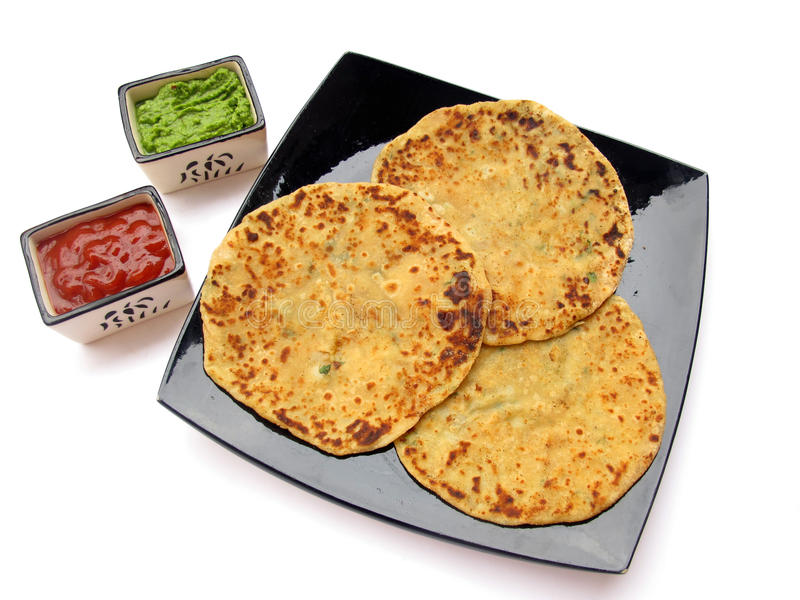aloo_paratha: (200, 99, 665, 530)
